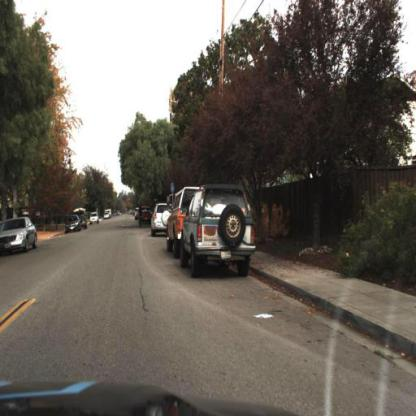car: (182, 183, 258, 280), (164, 187, 197, 262), (1, 213, 41, 257), (2, 219, 40, 258), (148, 201, 173, 243), (63, 209, 82, 237), (140, 202, 154, 225), (89, 211, 103, 229), (79, 205, 87, 233)
